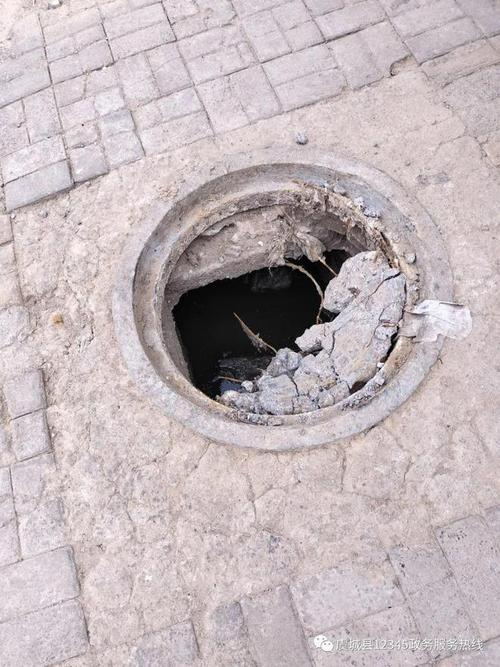broke: (63, 129, 479, 464)
